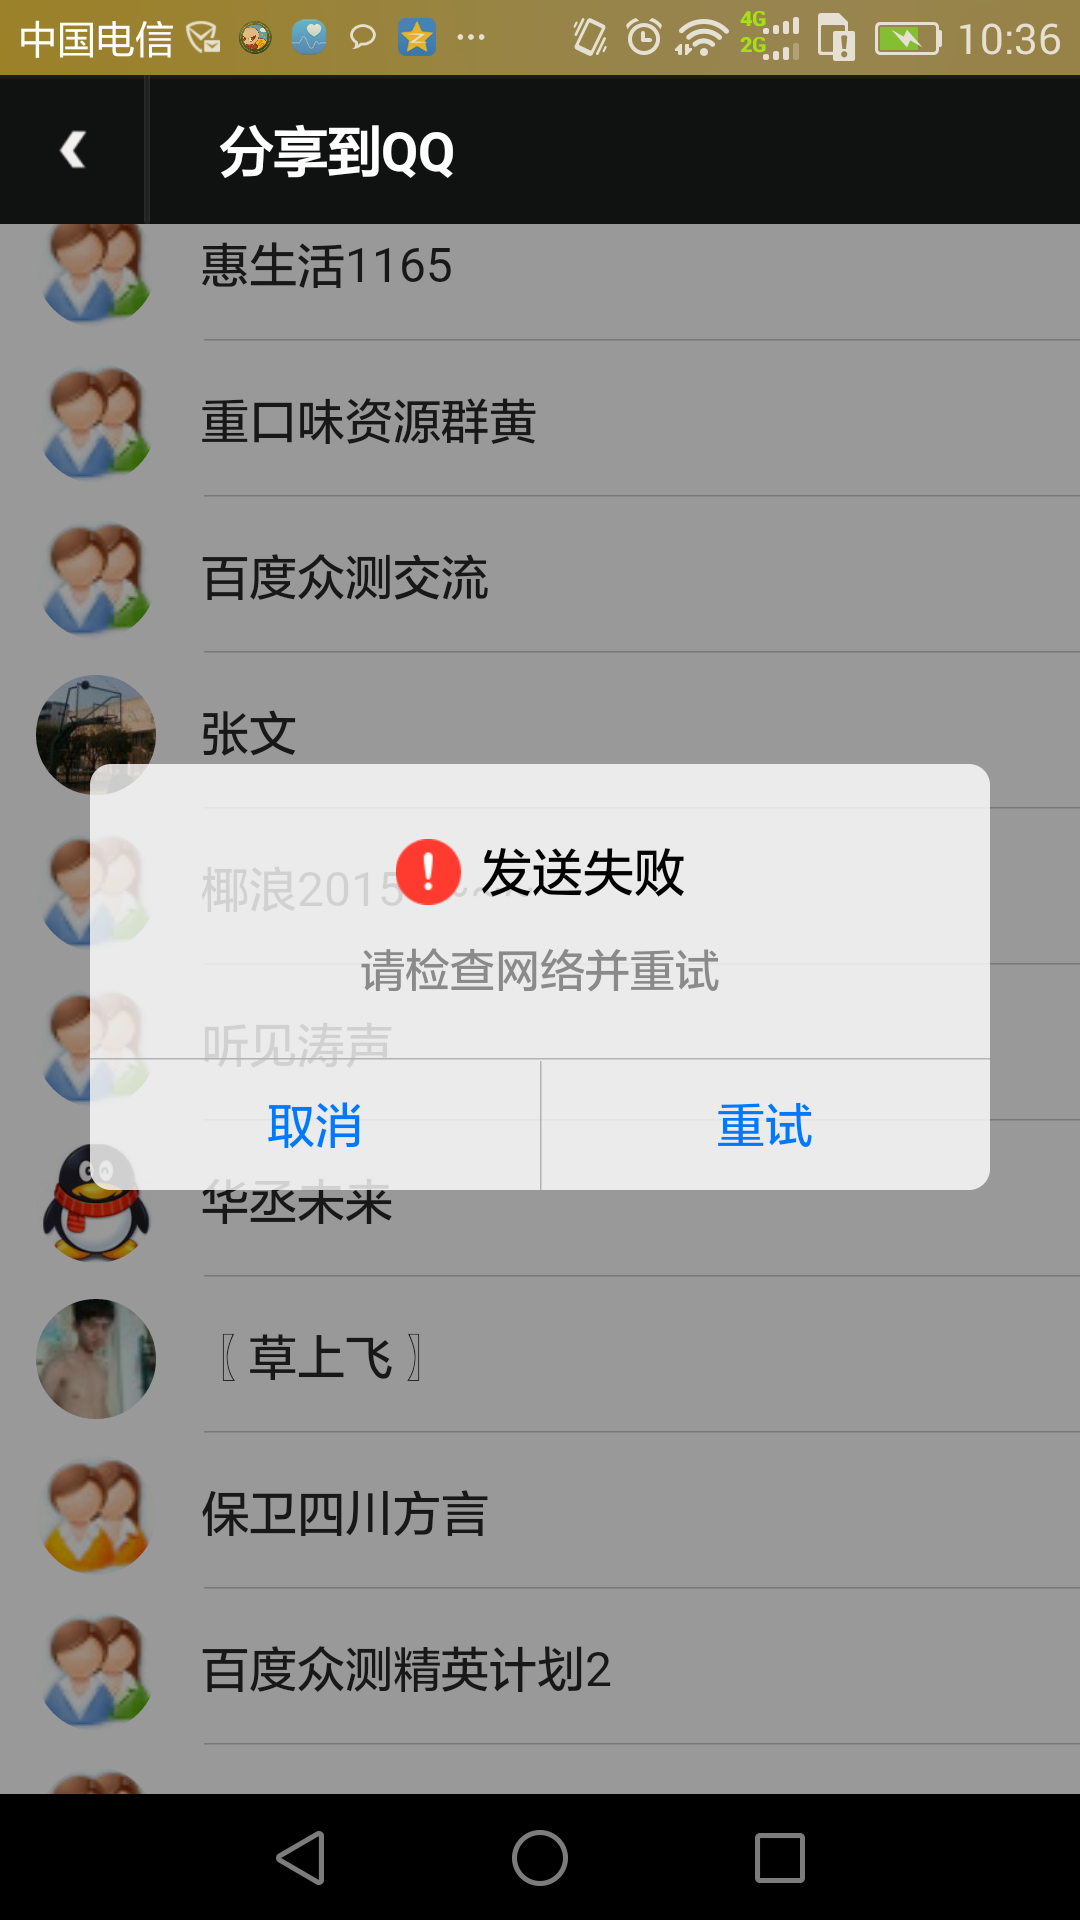alert: (80, 746, 1007, 1211)
